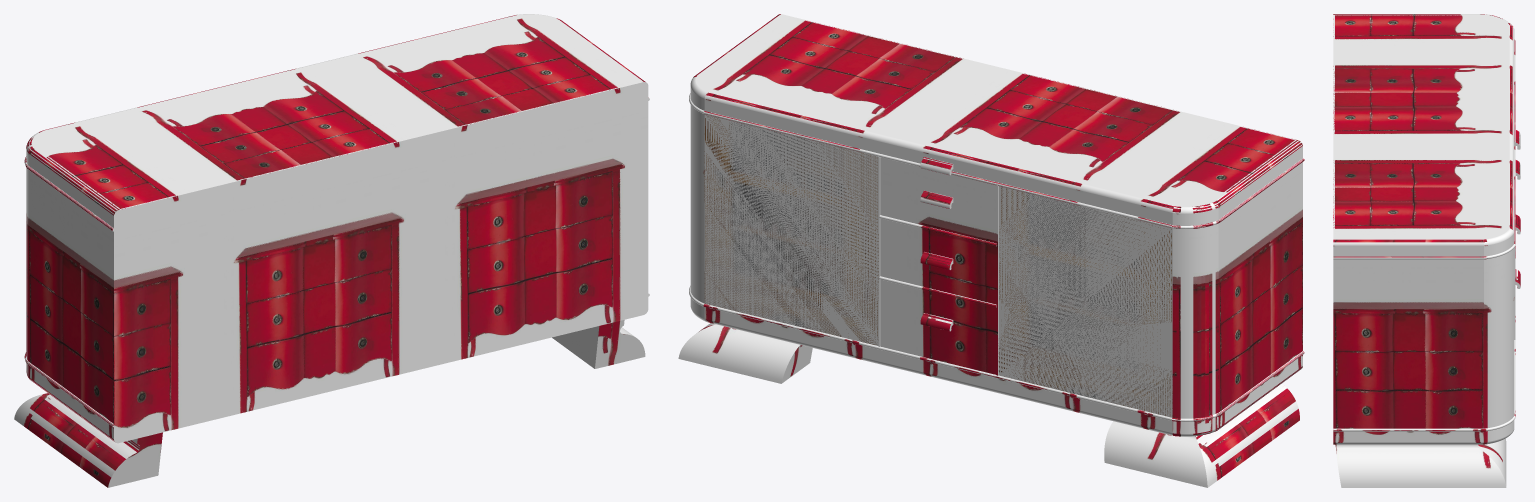
3 renders of one model, left to right at view 1: azimuth 30°, elevation 25°; view 2: azimuth 150°, elevation 25°; view 3: azimuth 270°, elevation 25°, orthographic. The views are drawn at different scales.
Parts seen in each view (by area): view 1: mesh3_mesh3-geometry; view 2: mesh3_mesh3-geometry; view 3: mesh3_mesh3-geometry.
Part boxes in pixels (x1,y1,x2,y2): mesh3_mesh3-geometry: [14, 14, 649, 487]; mesh3_mesh3-geometry: [678, 14, 1304, 487]; mesh3_mesh3-geometry: [1333, 14, 1520, 487].
Bounding box in the file's own units: 0.856 × 0.4256 × 0.2936.
